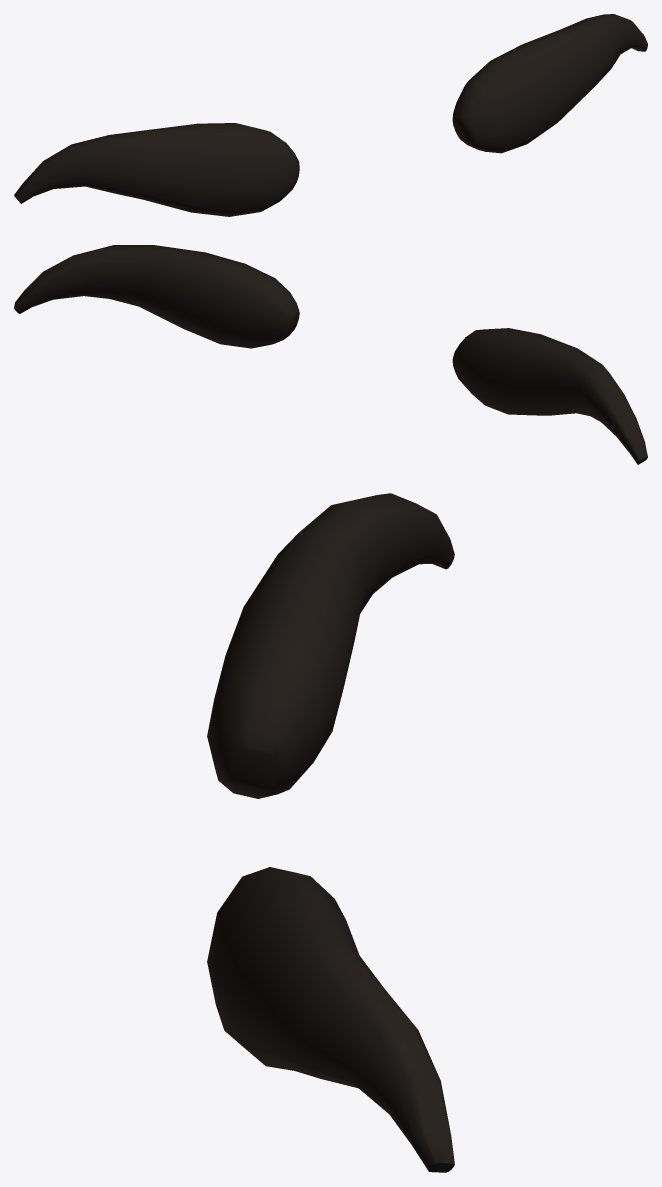
The model's file is Eyebrows_24_01.fbx.
3 views of the same model, one above another, from view 1: azimuth 30°, elevation 25°; view 2: azimuth 150°, elevation 25°; view 3: azimuth 270°, elevation 25° (orthographic). The views are drawn at different scales.
Visible parts, largest first — view 1: Eyebrows_24_01; view 2: Eyebrows_24_01; view 3: Eyebrows_24_01.
Boxes of the visible parts, x1=… form: Eyebrows_24_01: x1=14, y1=14, x2=647, y2=216; Eyebrows_24_01: x1=14, y1=245, x2=647, y2=464; Eyebrows_24_01: x1=207, y1=493, x2=454, y2=1172.
Size of the model in its own units: 19.24 by 2.6 by 3.26.
